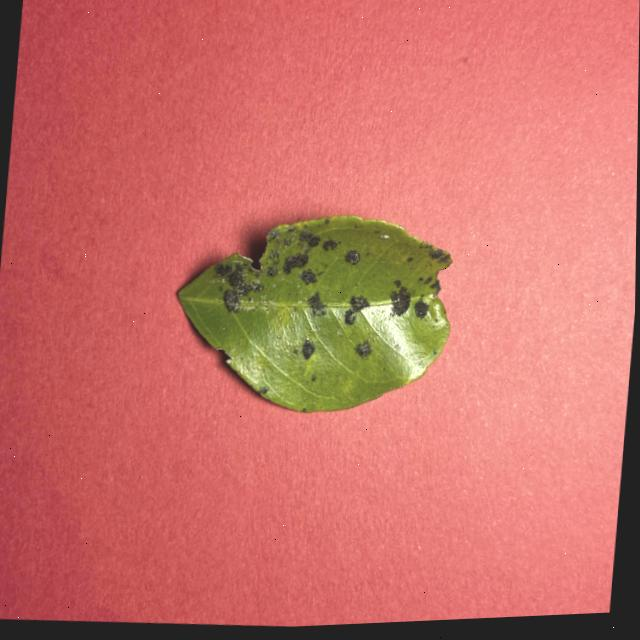sooty_mold: (177, 216, 450, 412)
